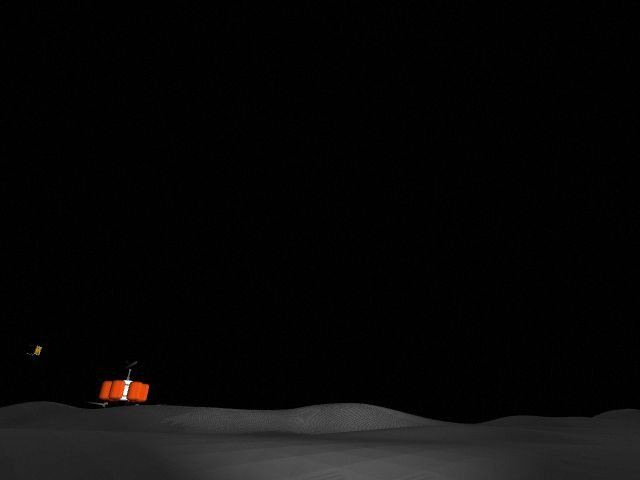cubesat: (24, 341, 44, 358)
